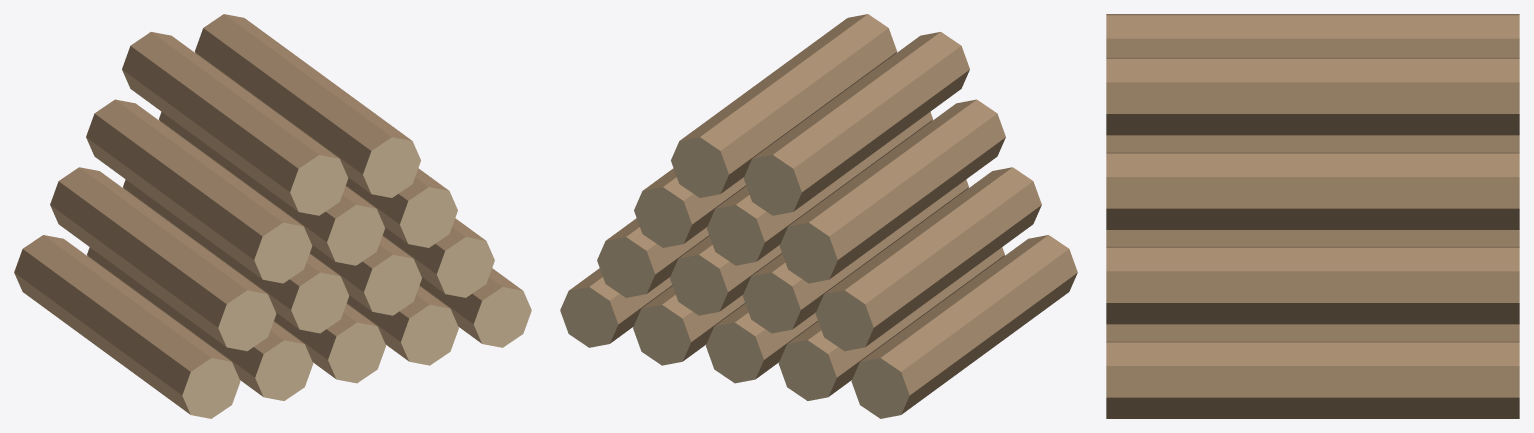
The model's file is yabitsu_log_pile.glb.
The picture shows the model from 3 angles, left to right: view 1: azimuth 30°, elevation 25°; view 2: azimuth 150°, elevation 25°; view 3: azimuth 270°, elevation 25°; orthographic projection. The views are drawn at different scales.
Visible parts, largest first — view 1: yabitsu_log_pile; view 2: yabitsu_log_pile; view 3: yabitsu_log_pile.
Part boxes in pixels (left/top/right/bottom): yabitsu_log_pile: left=14, top=14, right=531, bottom=418; yabitsu_log_pile: left=560, top=14, right=1077, bottom=418; yabitsu_log_pile: left=1106, top=14, right=1519, bottom=418.
Size of the model in its own units: 3.6 by 2.34 by 3.
